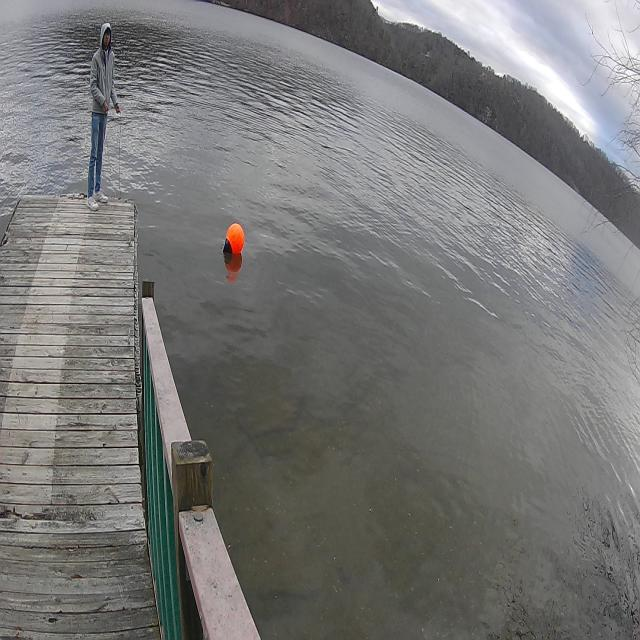Buoy: (223, 218, 246, 264)
